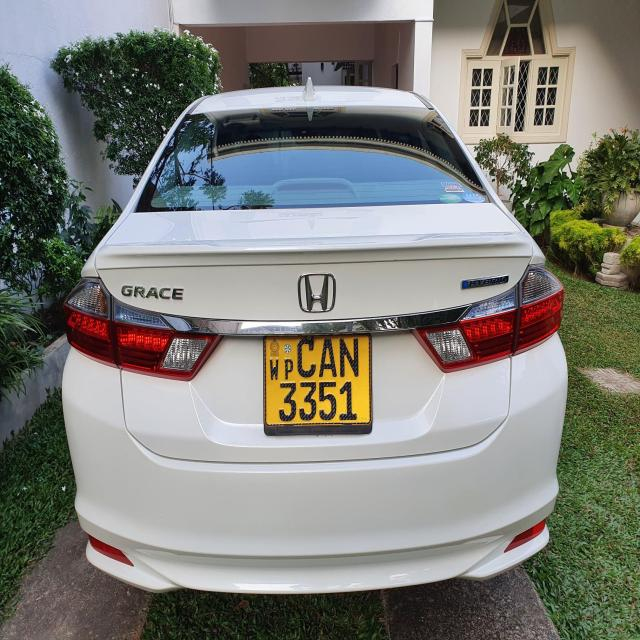license-plate: (264, 336, 370, 424)
